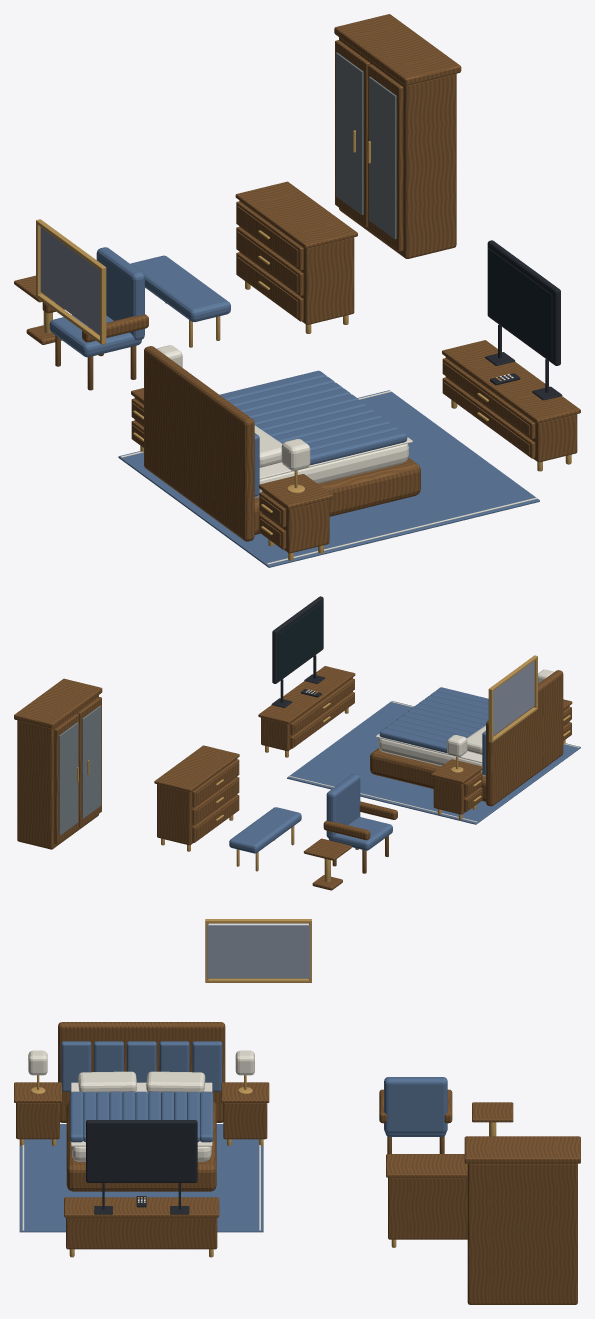
The model's file is room-07.glb.
3 renders of one model, top to bottom at view 1: azimuth 30°, elevation 25°; view 2: azimuth 150°, elevation 25°; view 3: azimuth 270°, elevation 25°, orthographic. The views are drawn at different scales.
Visible parts, largest first — view 1: RUG | bound wool.001, BED | headboard frame.001, WARDROBE | closed carcass.001, WARDROBE | crown.001, TV | SCREEN.001, DRESSER | closed carcass.001, DRESSER | overhanging top.001, WARDROBE | recessed door panel.002, WARDROBE | recessed door panel.003, TV CONSOLE | overhanging top.001, ART | ECLIPSE PLACEHOLDER | canvas solid.001, BED | upholstered platform.001 (+34 smaller); view 2: RUG | bound wool.001, BED | headboard frame.001, WARDROBE | closed carcass.001, WARDROBE | crown.001, TV | SCREEN.001, DRESSER | closed carcass.001, WARDROBE | recessed door panel.002, WARDROBE | recessed door panel.003, DRESSER | overhanging top.001, TV CONSOLE | overhanging top.001, ART | ECLIPSE PLACEHOLDER | canvas solid.001, BED | upholstered platform.001 (+27 smaller); view 3: WARDROBE | closed carcass.001, RUG | bound wool.001, TV | solid chassis.001, ART | ECLIPSE PLACEHOLDER | canvas solid.001, DRESSER | closed carcass.001, TV CONSOLE | closed carcass.001, BED | headboard frame.001, CHAIR | shaped upholstered back.001, WARDROBE | crown.001, TV CONSOLE | overhanging top.001, BED | upholstered platform.001, DRESSER | overhanging top.001 (+16 smaller).
Part boxes in pixels (left/top/right/bottom): RUG | bound wool.001: left=118, top=390, right=539, bottom=567; BED | headboard frame.001: left=144, top=346, right=254, bottom=541; WARDROBE | closed carcass.001: left=339, top=37, right=456, bottom=258; WARDROBE | crown.001: left=334, top=14, right=461, bottom=85; TV | SCREEN.001: left=488, top=248, right=552, bottom=360; DRESSER | closed carcass.001: left=239, top=200, right=354, bottom=324; DRESSER | overhanging top.001: left=235, top=181, right=357, bottom=248; WARDROBE | recessed door panel.002: left=369, top=76, right=396, bottom=239; WARDROBE | recessed door panel.003: left=336, top=52, right=363, bottom=214; TV CONSOLE | overhanging top.001: left=442, top=340, right=580, bottom=423; ART | ECLIPSE PLACEHOLDER | canvas solid.001: left=40, top=227, right=99, bottom=334; BED | upholstered platform.001: left=254, top=457, right=420, bottom=534; RUG | bound wool.001: left=287, top=701, right=580, bottom=824; BED | headboard frame.001: left=486, top=670, right=563, bottom=806; WARDROBE | closed carcass.001: left=17, top=695, right=98, bottom=849; WARDROBE | crown.001: left=14, top=678, right=102, bottom=728; TV | SCREEN.001: left=278, top=602, right=323, bottom=679; DRESSER | closed carcass.001: left=157, top=758, right=237, bottom=845; WARDROBE | recessed door panel.002: left=82, top=705, right=101, bottom=818; WARDROBE | recessed door panel.003: left=59, top=722, right=78, bottom=835; DRESSER | overhanging top.001: left=154, top=745, right=239, bottom=792; TV CONSOLE | overhanging top.001: left=258, top=666, right=355, bottom=724; ART | ECLIPSE PLACEHOLDER | canvas solid.001: left=493, top=661, right=534, bottom=735; BED | upholstered platform.001: left=370, top=748, right=485, bottom=801; WARDROBE | closed carcass.001: left=467, top=1163, right=577, bottom=1304; RUG | bound wool.001: left=19, top=1124, right=263, bottom=1232; TV | solid chassis.001: left=86, top=1120, right=197, bottom=1182; ART | ECLIPSE PLACEHOLDER | canvas solid.001: left=207, top=924, right=310, bottom=978; DRESSER | closed carcass.001: left=388, top=1177, right=467, bottom=1239; TV CONSOLE | closed carcass.001: left=66, top=1217, right=217, bottom=1249; BED | headboard frame.001: left=58, top=1022, right=225, bottom=1122; CHAIR | shaped upholstered back.001: left=384, top=1077, right=447, bottom=1133; WARDROBE | crown.001: left=464, top=1136, right=580, bottom=1163; TV CONSOLE | overhanging top.001: left=64, top=1197, right=219, bottom=1217; BED | upholstered platform.001: left=66, top=1101, right=216, bottom=1191; DRESSER | overhanging top.001: left=386, top=1154, right=467, bottom=1177.
Size of the model in its own units: 7.28 by 3.07 by 8.48.
Materials: 10 (1 with a texture image).
